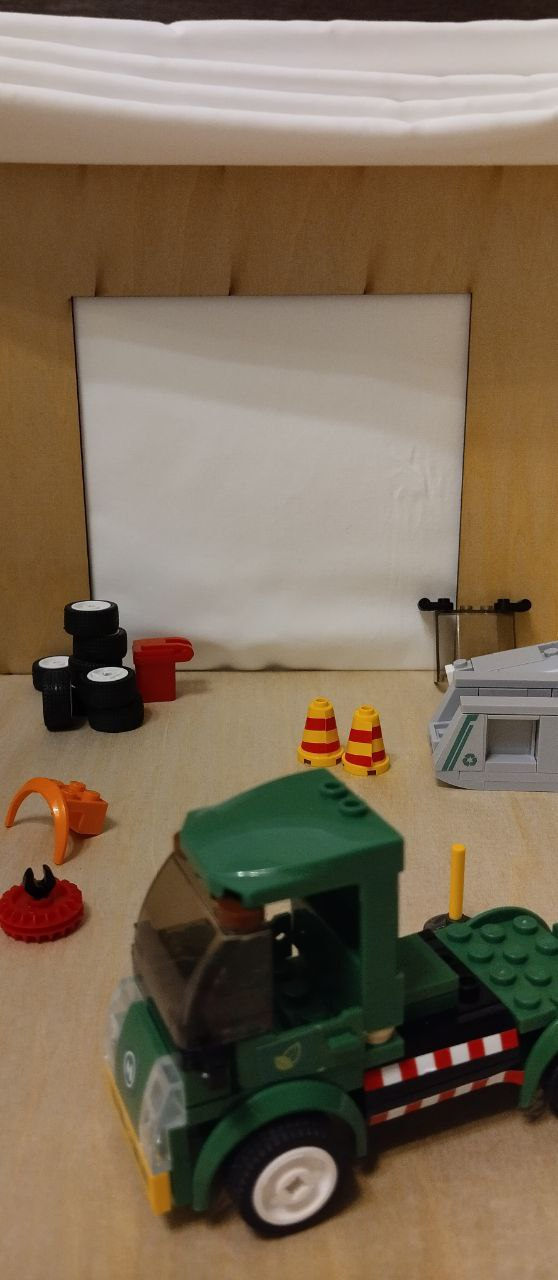Cone: (343, 698, 392, 778), (300, 694, 342, 762)
Object Red: (117, 623, 214, 699)
Truck: (97, 760, 558, 1238)
